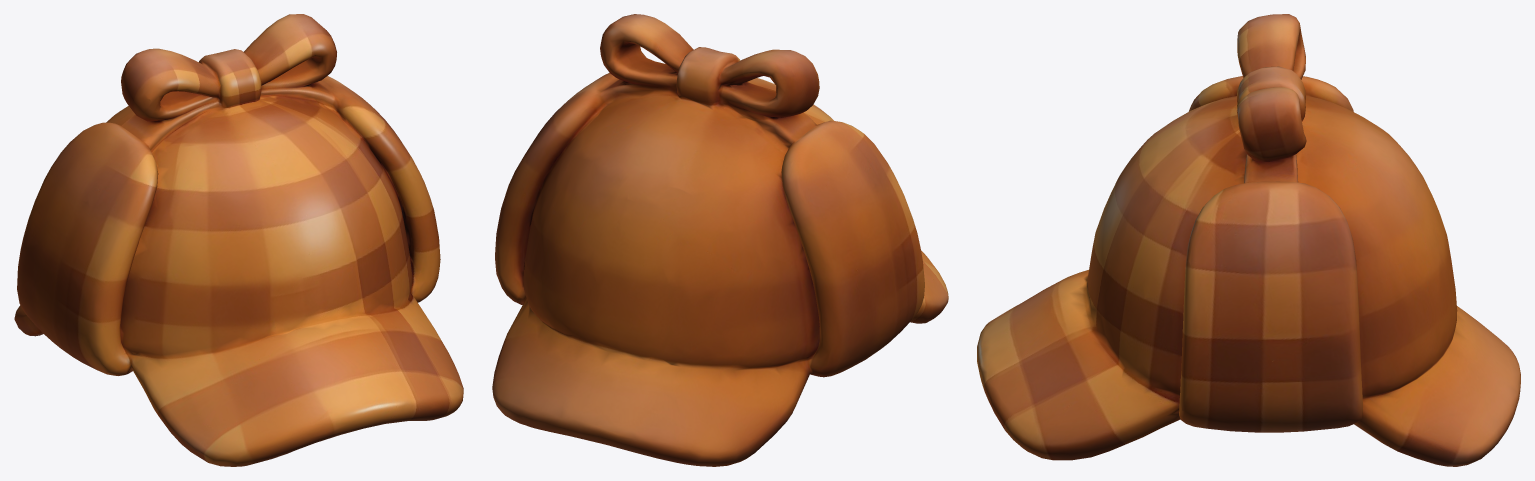
File: cs-detective-cap.glb
The picture shows the model from 3 angles, left to right: view 1: azimuth 30°, elevation 25°; view 2: azimuth 150°, elevation 25°; view 3: azimuth 270°, elevation 25°; orthographic projection. The views are drawn at different scales.
Visible parts, largest first — view 1: tripo_node_d0cb757c-098b-4eca-a886-802da1de96f4; view 2: tripo_node_d0cb757c-098b-4eca-a886-802da1de96f4; view 3: tripo_node_d0cb757c-098b-4eca-a886-802da1de96f4.
Boxes of the visible parts, x1,y1,x2,y2 form: tripo_node_d0cb757c-098b-4eca-a886-802da1de96f4: [14, 14, 463, 466]; tripo_node_d0cb757c-098b-4eca-a886-802da1de96f4: [492, 14, 948, 466]; tripo_node_d0cb757c-098b-4eca-a886-802da1de96f4: [977, 14, 1520, 466].
Bounding box in the file's own units: 0.816 × 0.719 × 1.
1 material, 1 textured.
